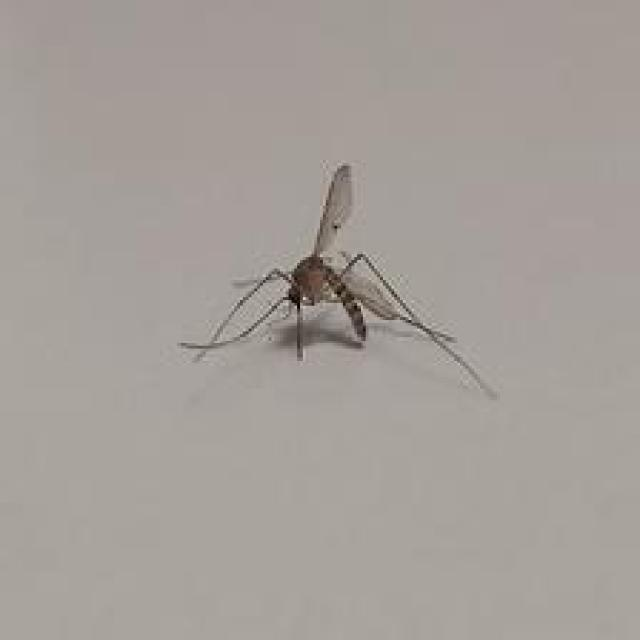Culex: (177, 162, 500, 402)
